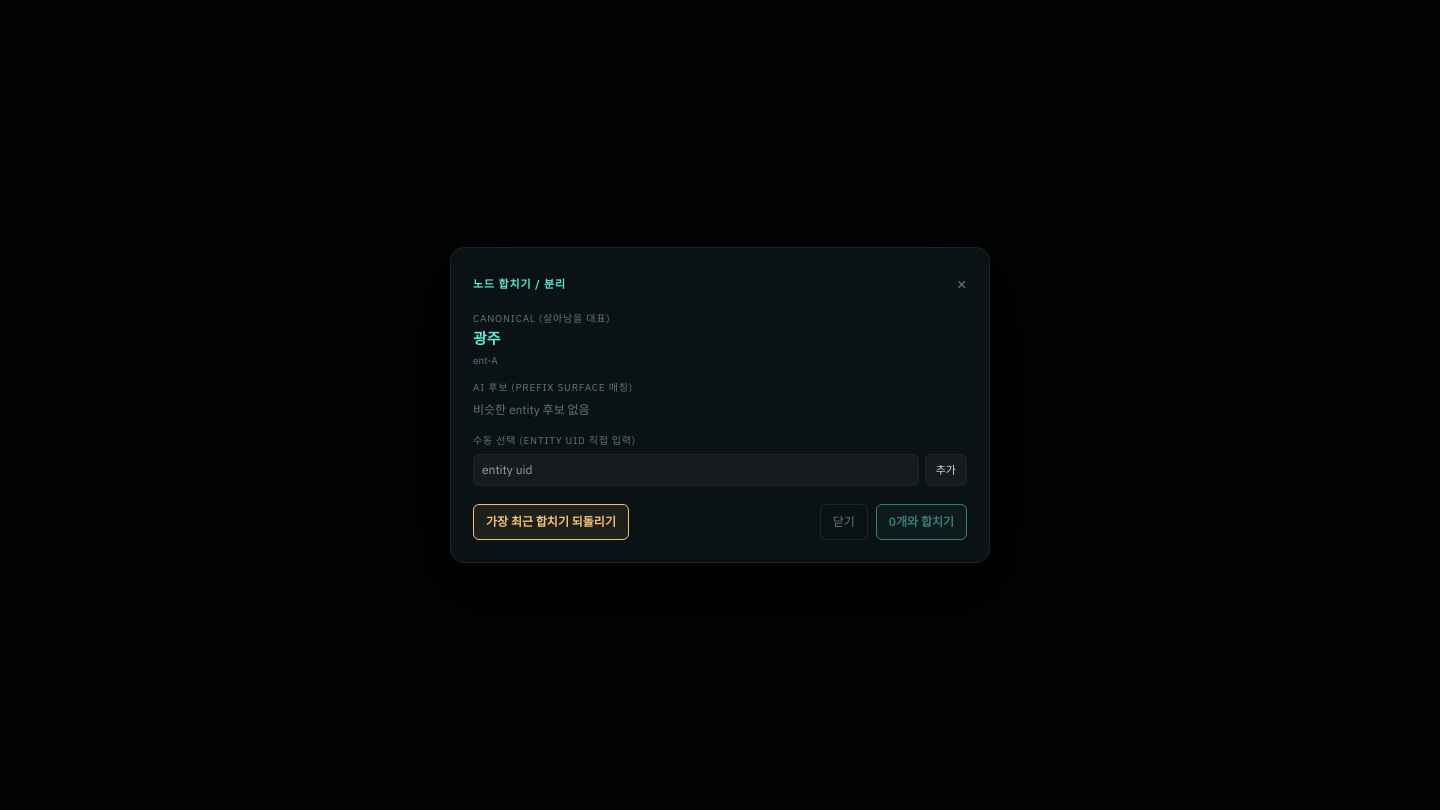
Test: MergeCandidatesModal › calls unmergeEntity on 되돌리기 button
Check: the text "비슷한 entity 후보 없음" is shown, box top-left (473, 402), bottom-right (590, 417)
Click the button with test id "merge-modal-unmerge" at (551, 522), box top-left (473, 504), bottom-right (629, 540)
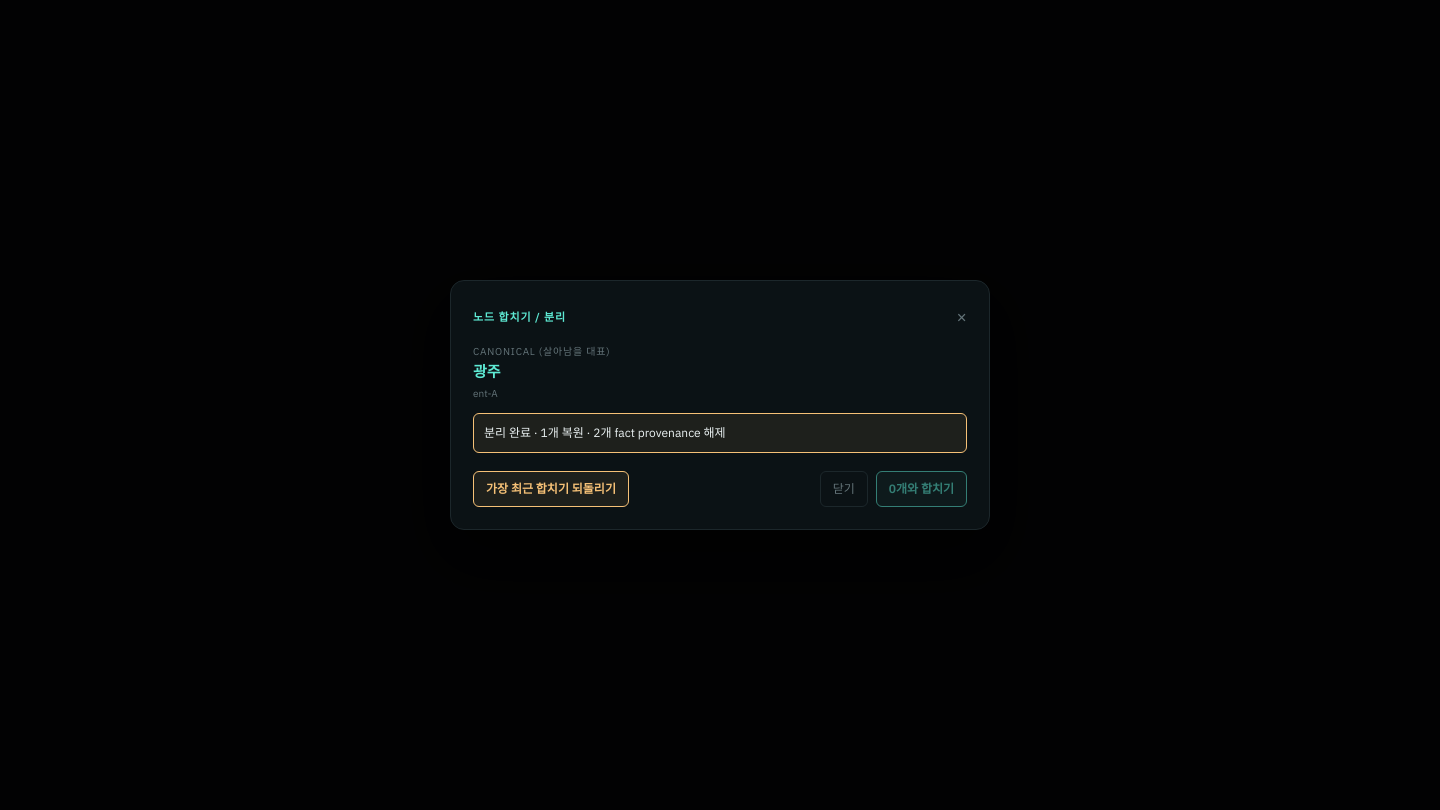
Check: the text with test id "unmerge-result-banner" shows "분리 완료", box top-left (484, 425), bottom-right (541, 440)
